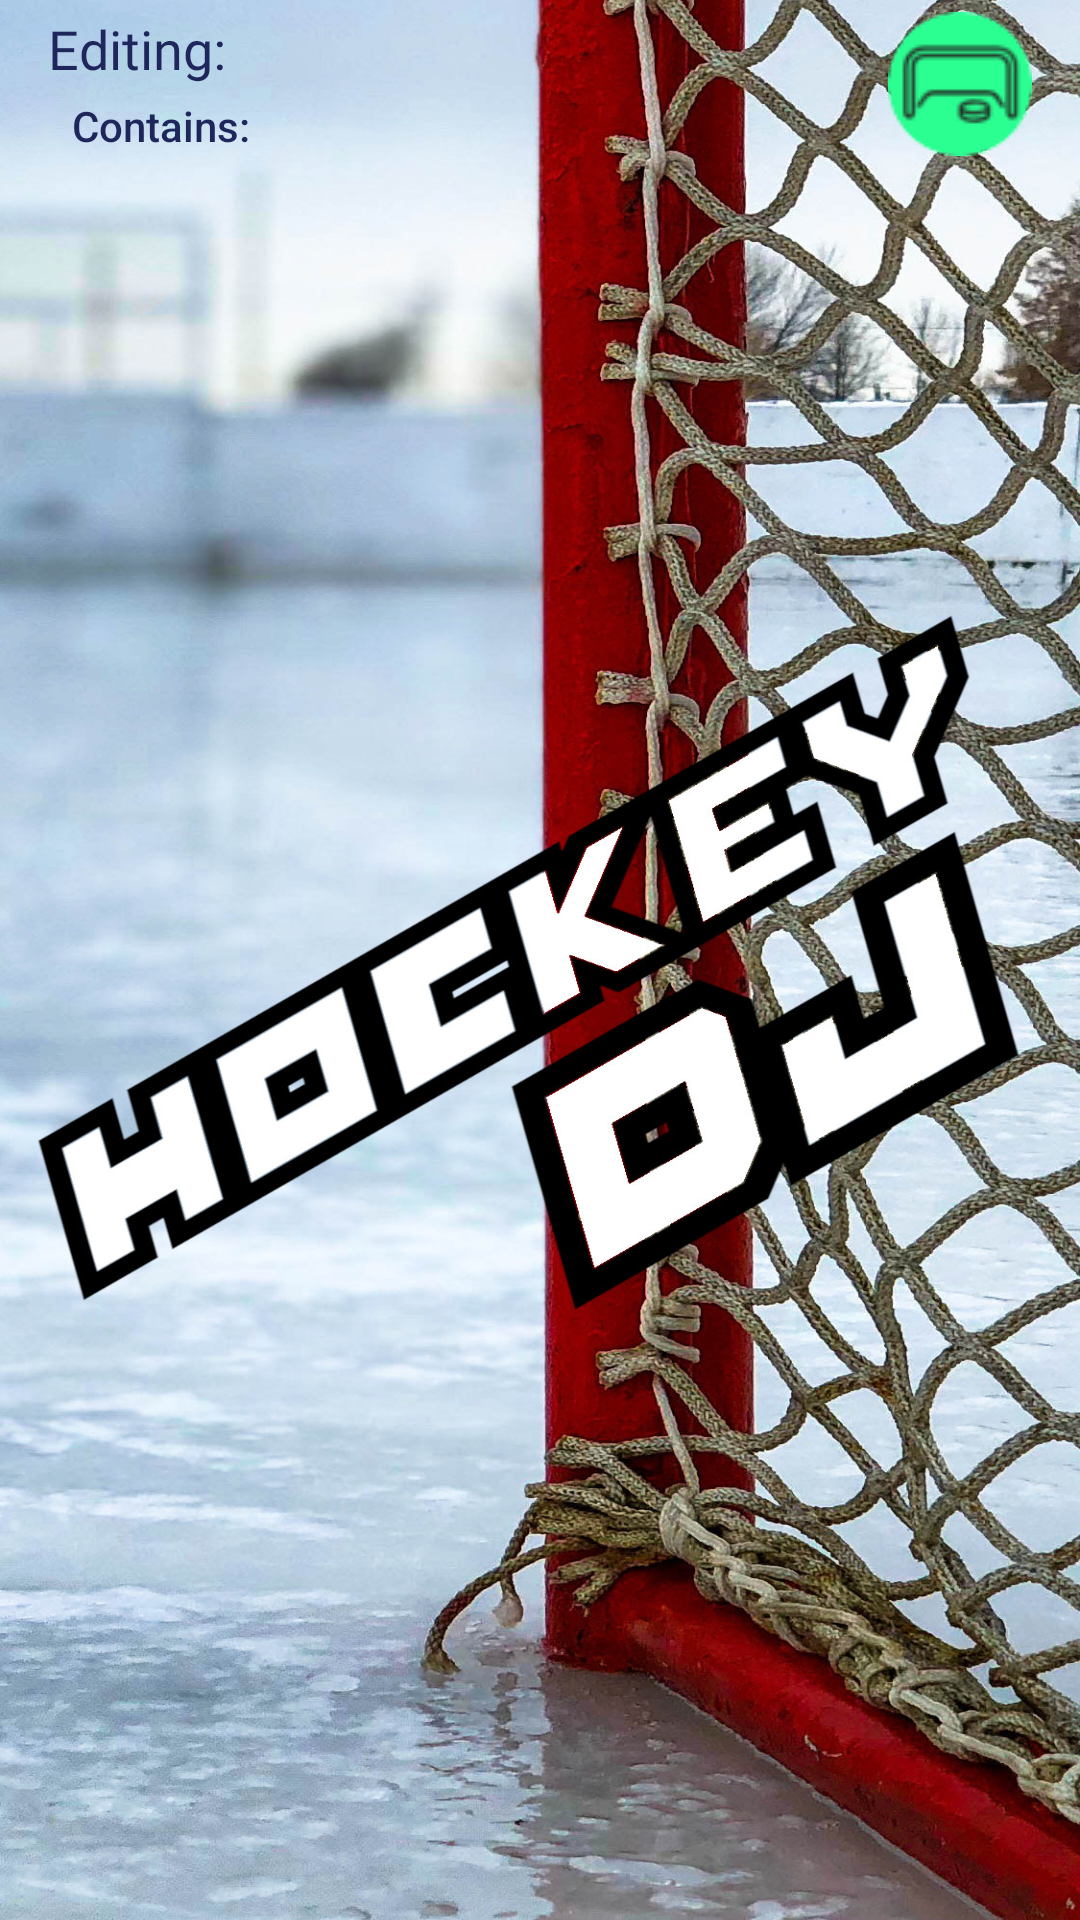

Icons on this 1080 x 1920 Android screen, each with the point to tap as point (x, y):
goal list: point (960, 84)
